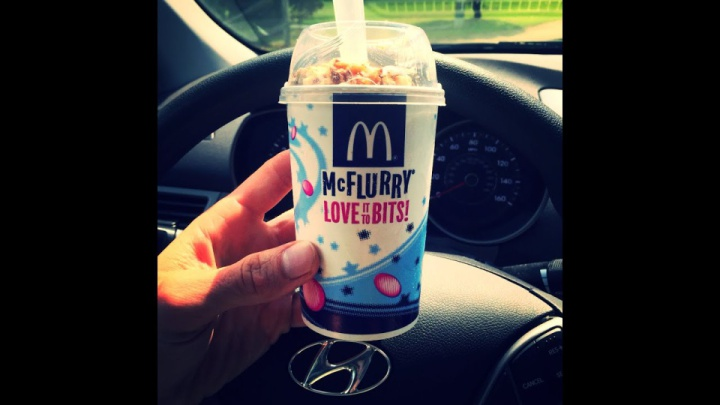mcdonalds: (342, 116, 401, 167)
